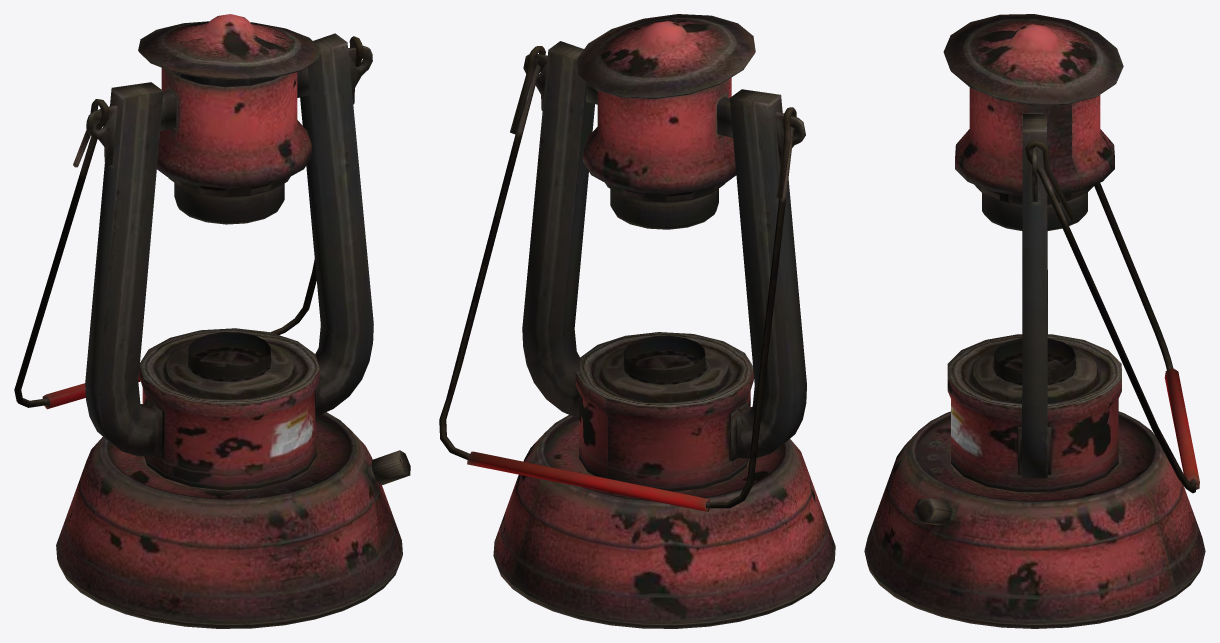
File: lantern.static.glb
3 views of the same model, side by side, from view 1: azimuth 30°, elevation 25°; view 2: azimuth 150°, elevation 25°; view 3: azimuth 270°, elevation 25° (orthographic).
Parts seen in each view (by area): view 1: lantern; view 2: lantern; view 3: lantern.
Boxes of the visible parts, bbox=[...] form: lantern: bbox=[14, 14, 410, 628]; lantern: bbox=[439, 14, 835, 628]; lantern: bbox=[864, 14, 1205, 628].
Size of the model in its own units: 0.2869 by 0.4886 by 0.2832.
1 material, 1 textured.
